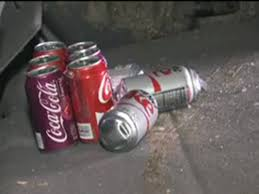can: (23, 65, 75, 156), (97, 89, 160, 149), (70, 54, 111, 143)
